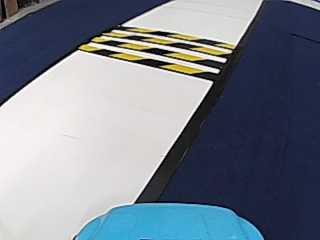bump: (105, 27, 221, 82)
